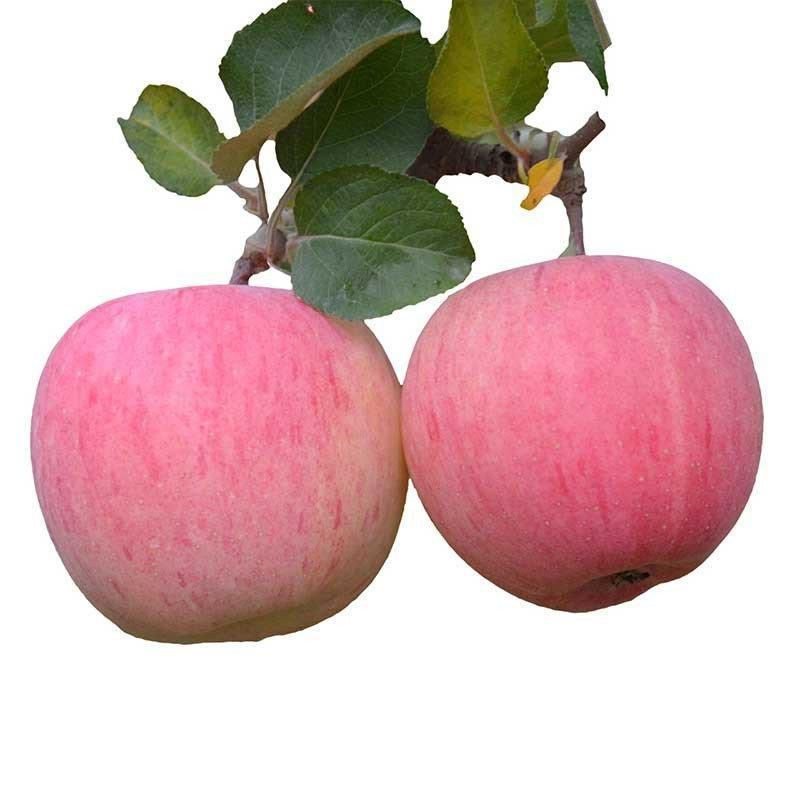apple: (23, 286, 408, 647), (395, 253, 767, 612)
